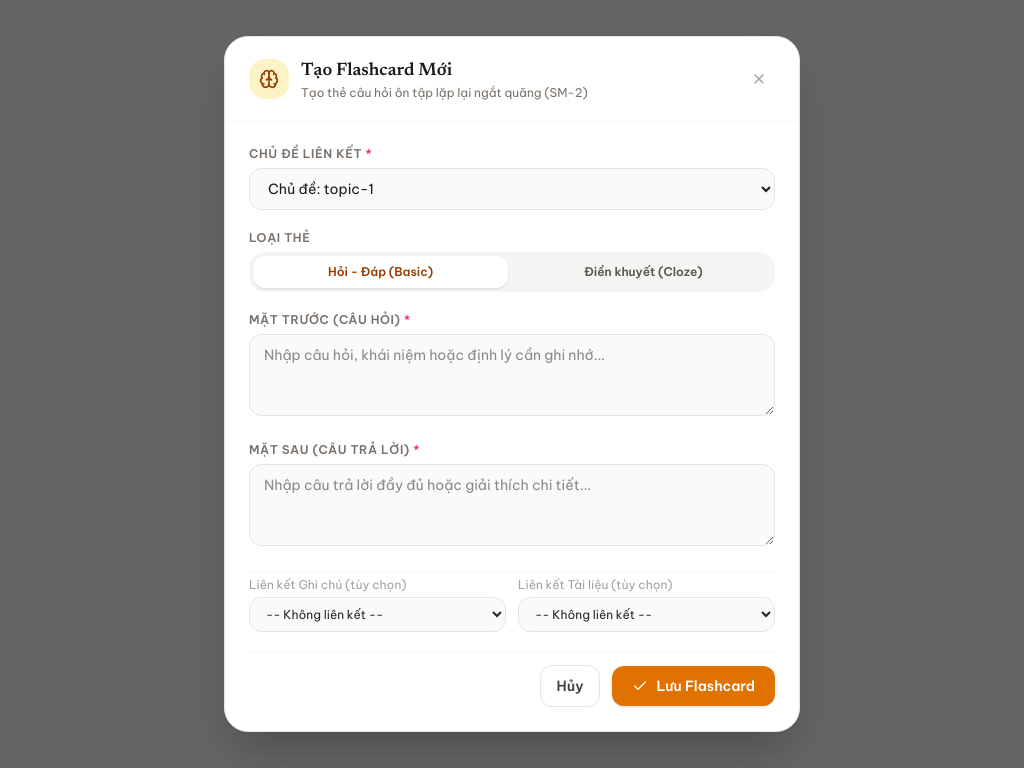
Test: PR 2 (Phase 25): Flashcard Creation Feedback & Outcome Contract › UI Feedback: FlashcardFormModal › Test 6: FlashcardFormModal displays 'Thẻ này đã tồn tại — không tạo trùng.' and NOT created message when outcome is existing
Type "Câu hỏi trùng" into the text box with test id "input-front".
click(512, 375); type("Câu hỏi trùng")  # box [249,334,775,416]
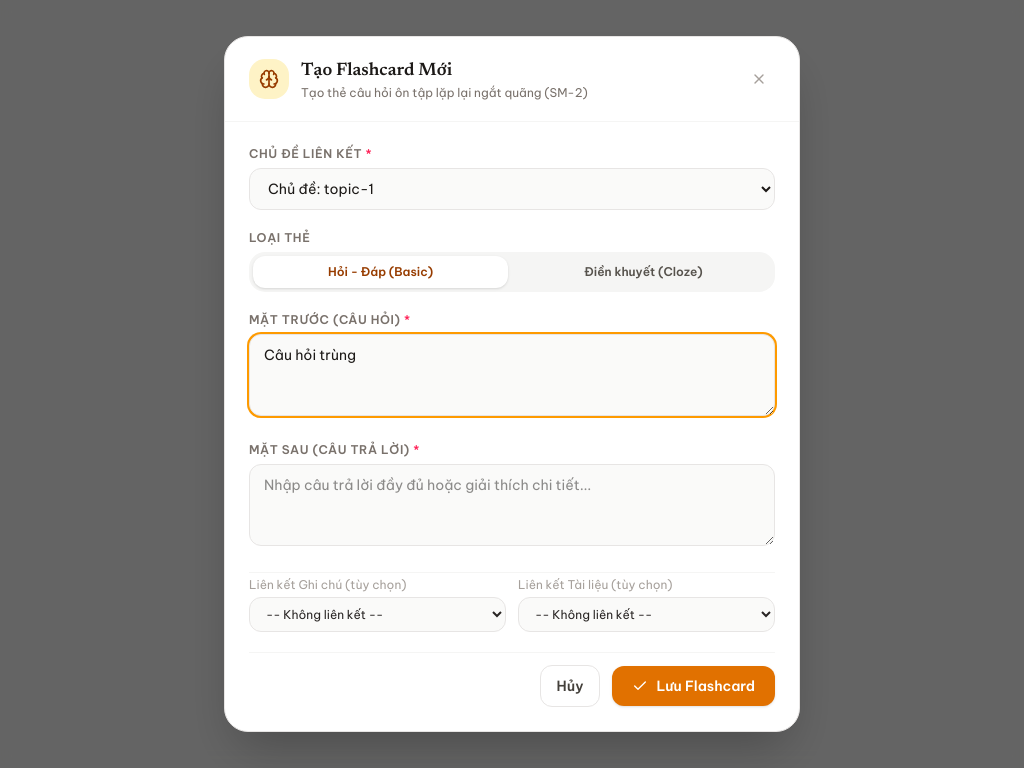
Type "Câu trả lời cũ" into the text box with test id "input-back".
click(512, 505); type("Câu trả lời cũ")  # box [249,464,775,546]
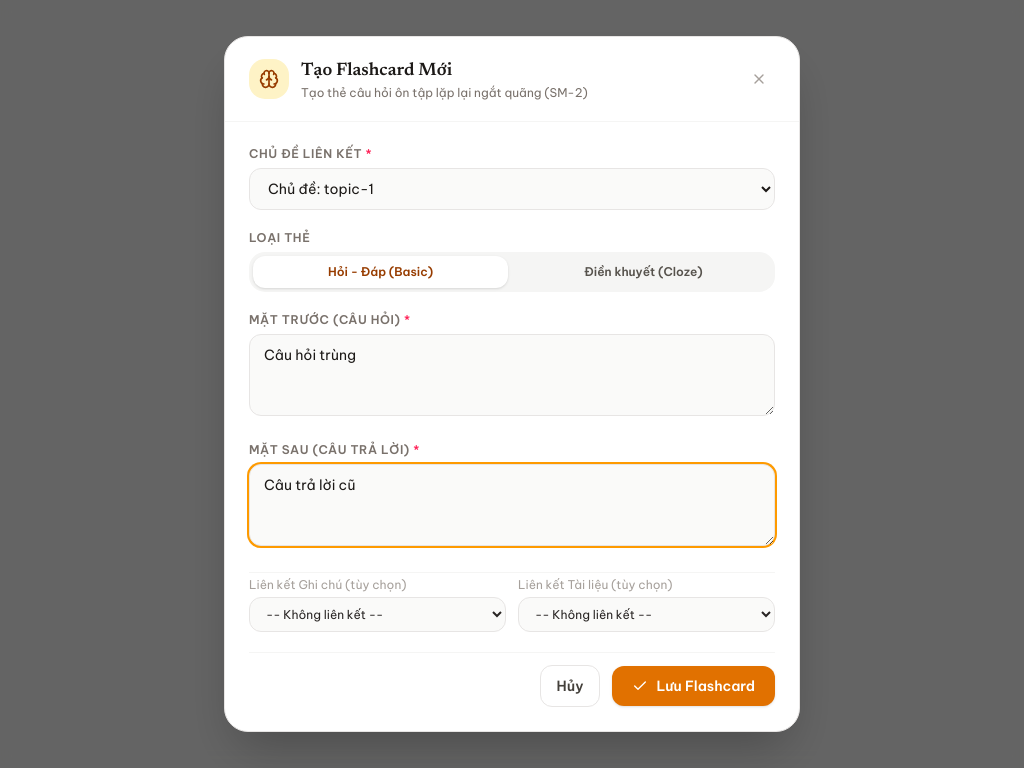
Click the button with test id "btn-submit-flashcard".
click(694, 686)  # box [612,666,775,706]
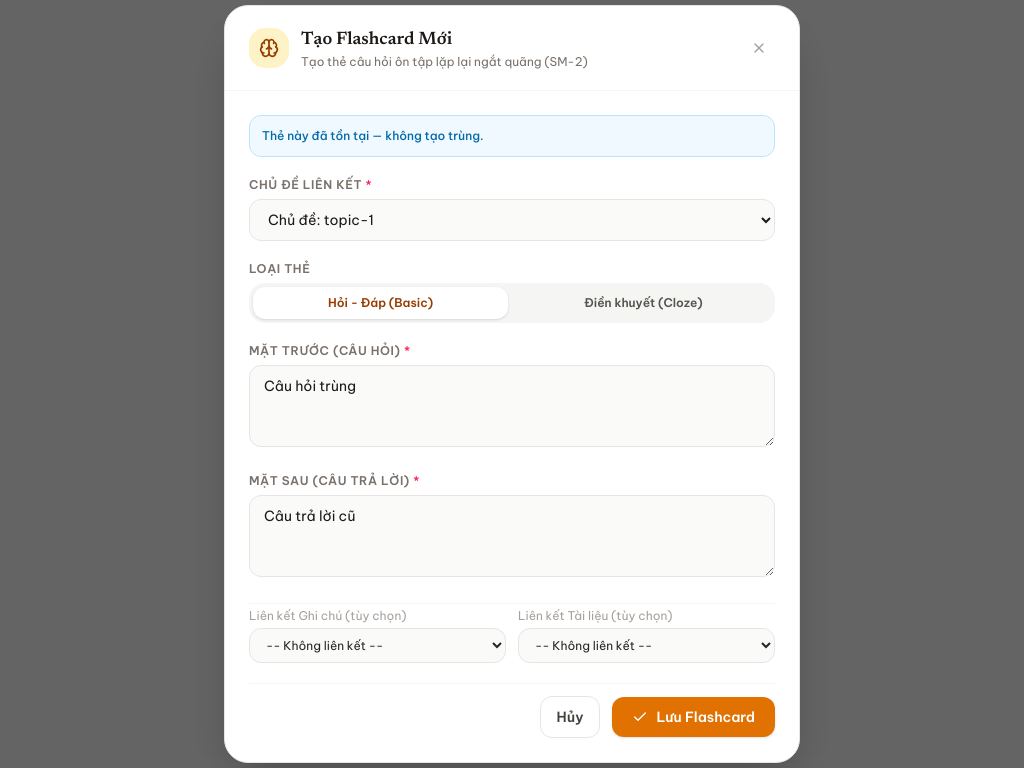
Check: the text "Thẻ này đã tồn tại — không tạo trùng." is shown, box [262,128,484,144]
